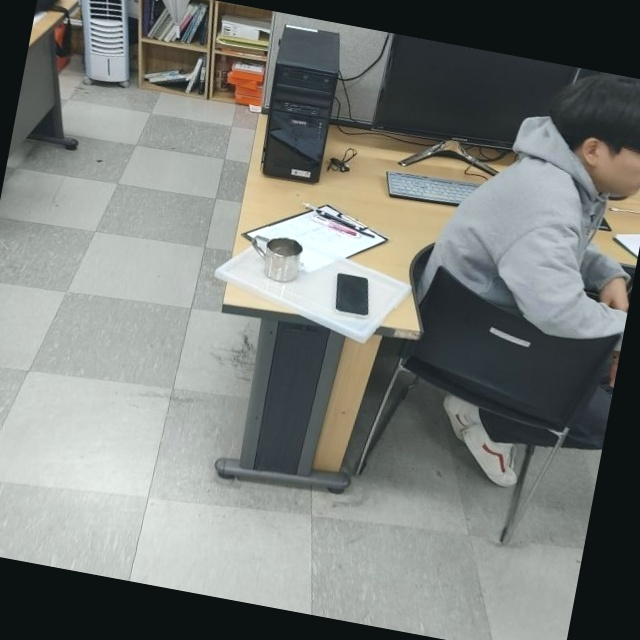cup: (243, 230, 305, 287)
phone: (330, 271, 376, 318)
